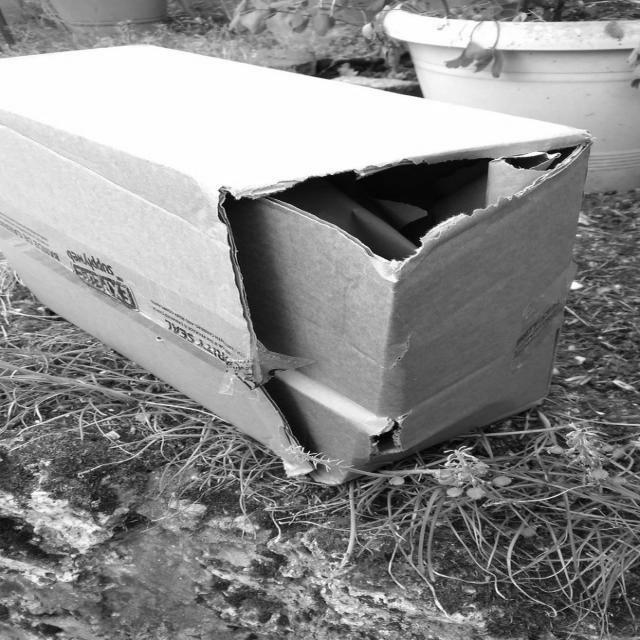hole: (287, 132, 589, 260), (362, 415, 410, 455)
